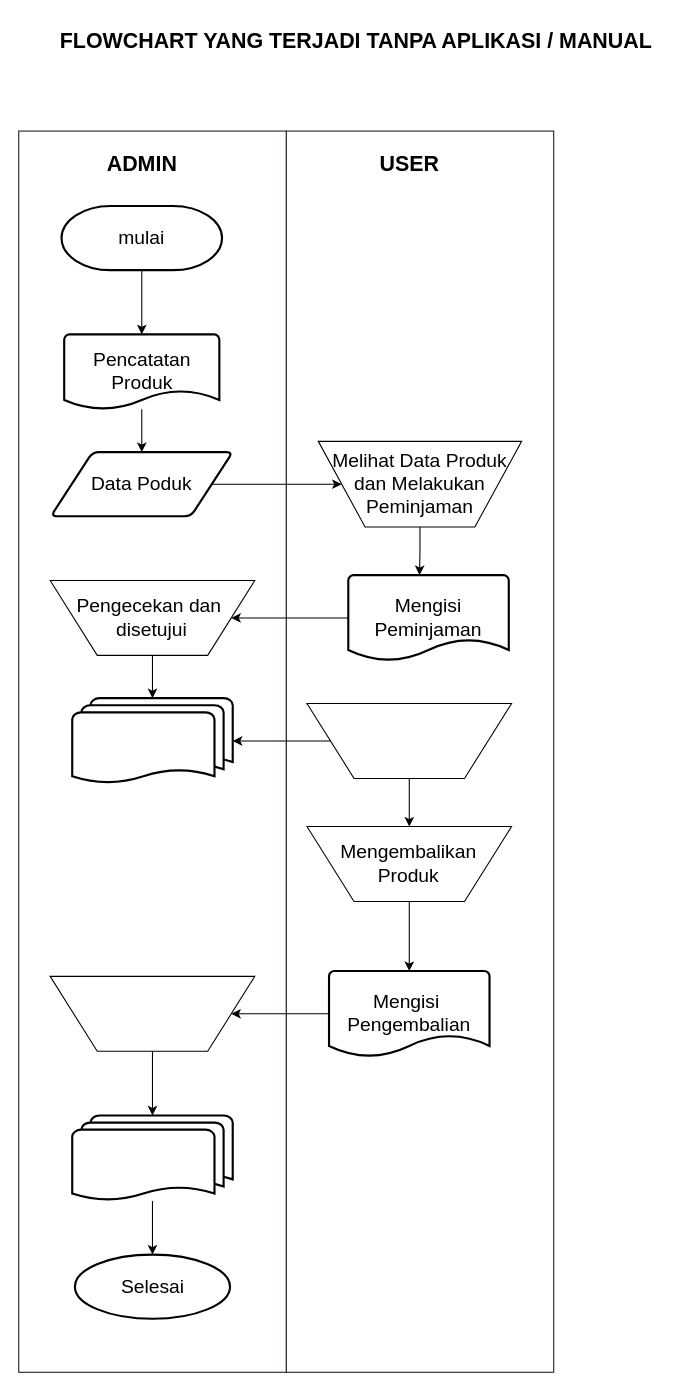
The diagram is 674 pixels wide and 1391 high, and some of its shapes have lost their labels. Each missing label, with the centre of its shape:
"Laporan Peminjaman" belongs at point 152,740.
"Laporan Pengembalian" belongs at point 152,1158.
"Pemeriksaan" belongs at point 152,1013.
"Pengambilan produk" belongs at point 409,740.
